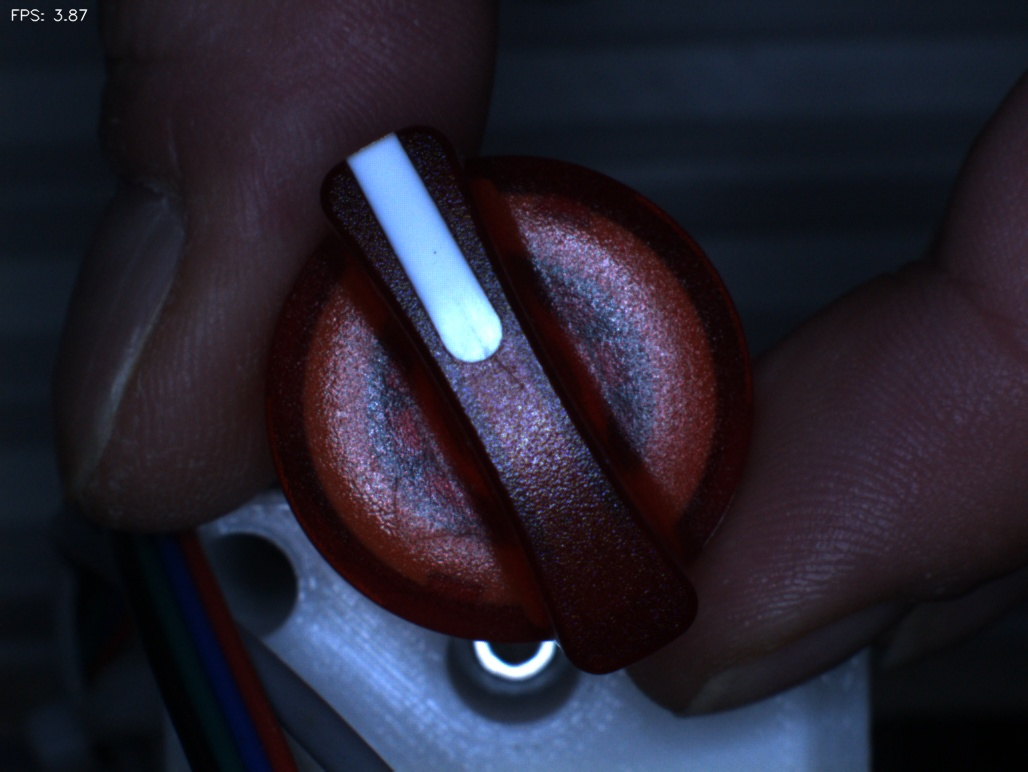PointNoir: (394, 217, 470, 282)
